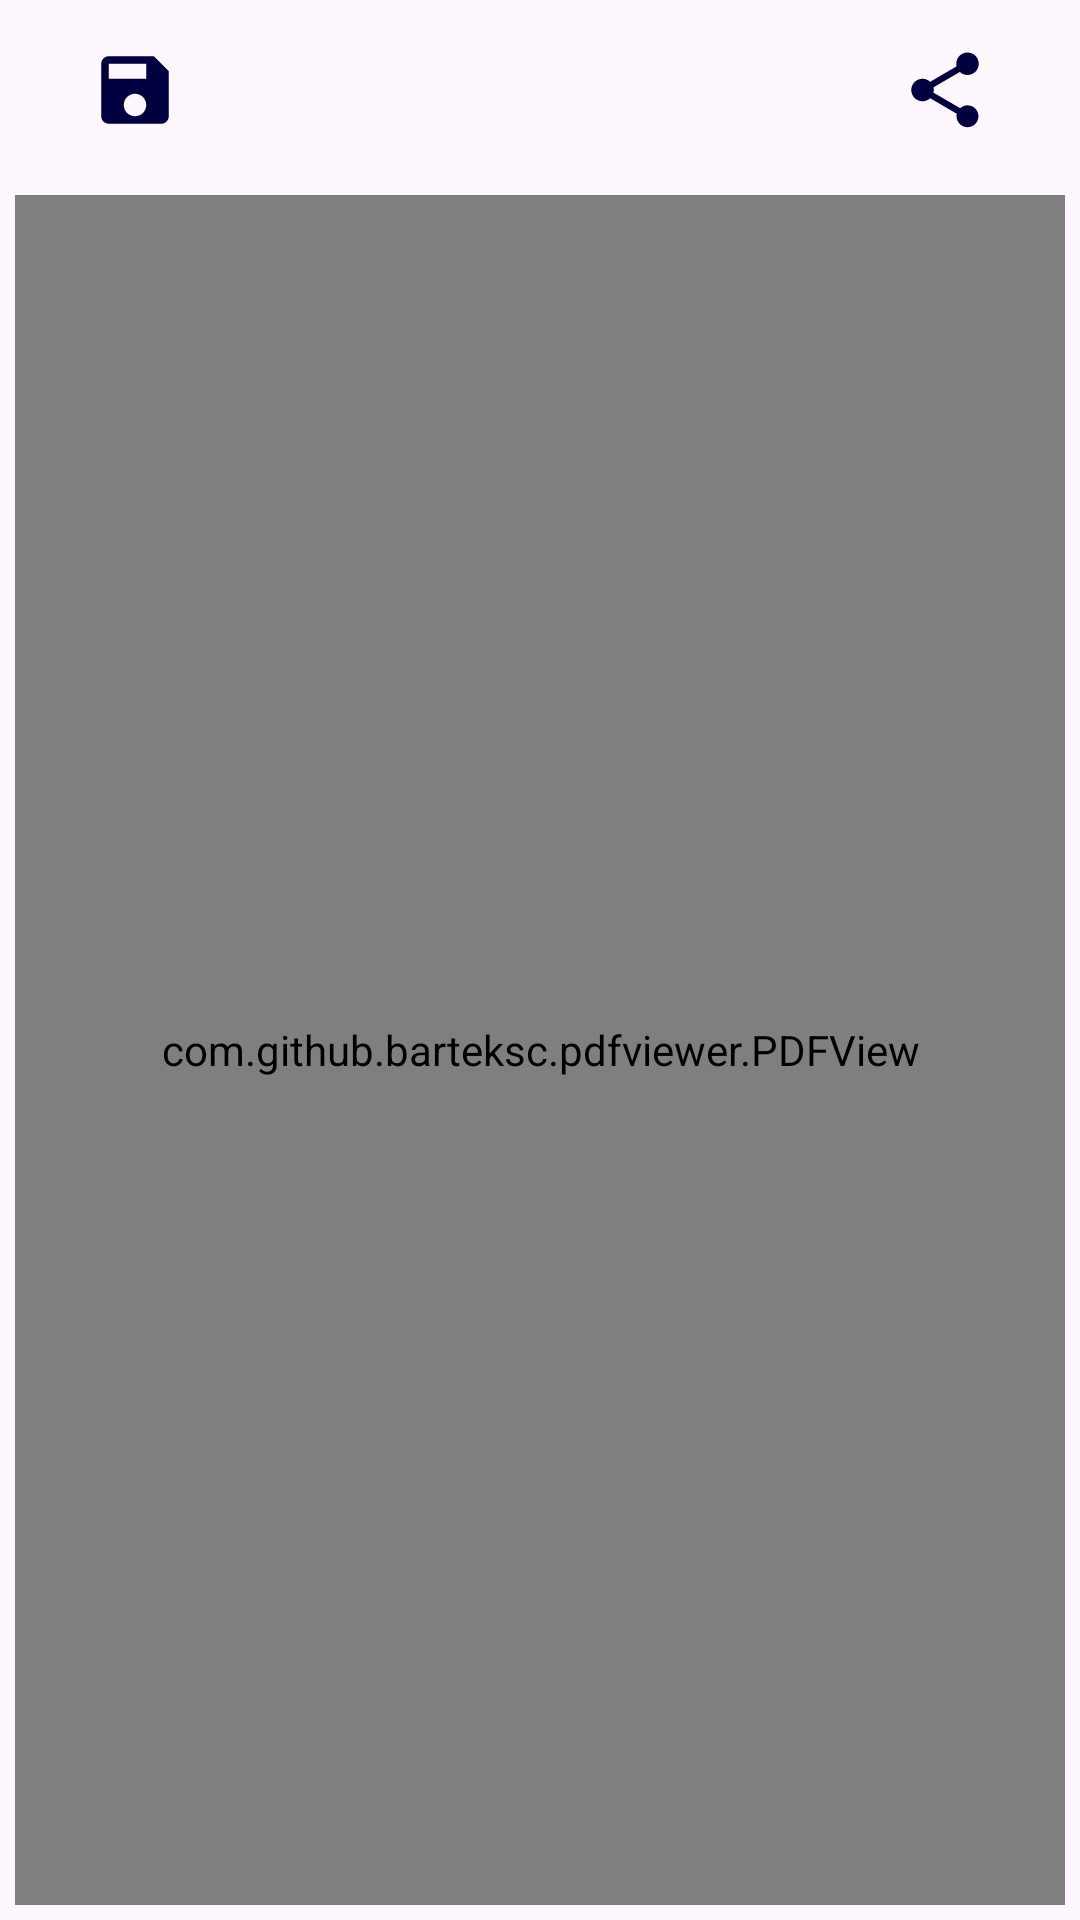

Point at icon controls on the screen. Image size 1080w x 1920h, points as [x,y].
save: [135,90]
share: [945,90]
